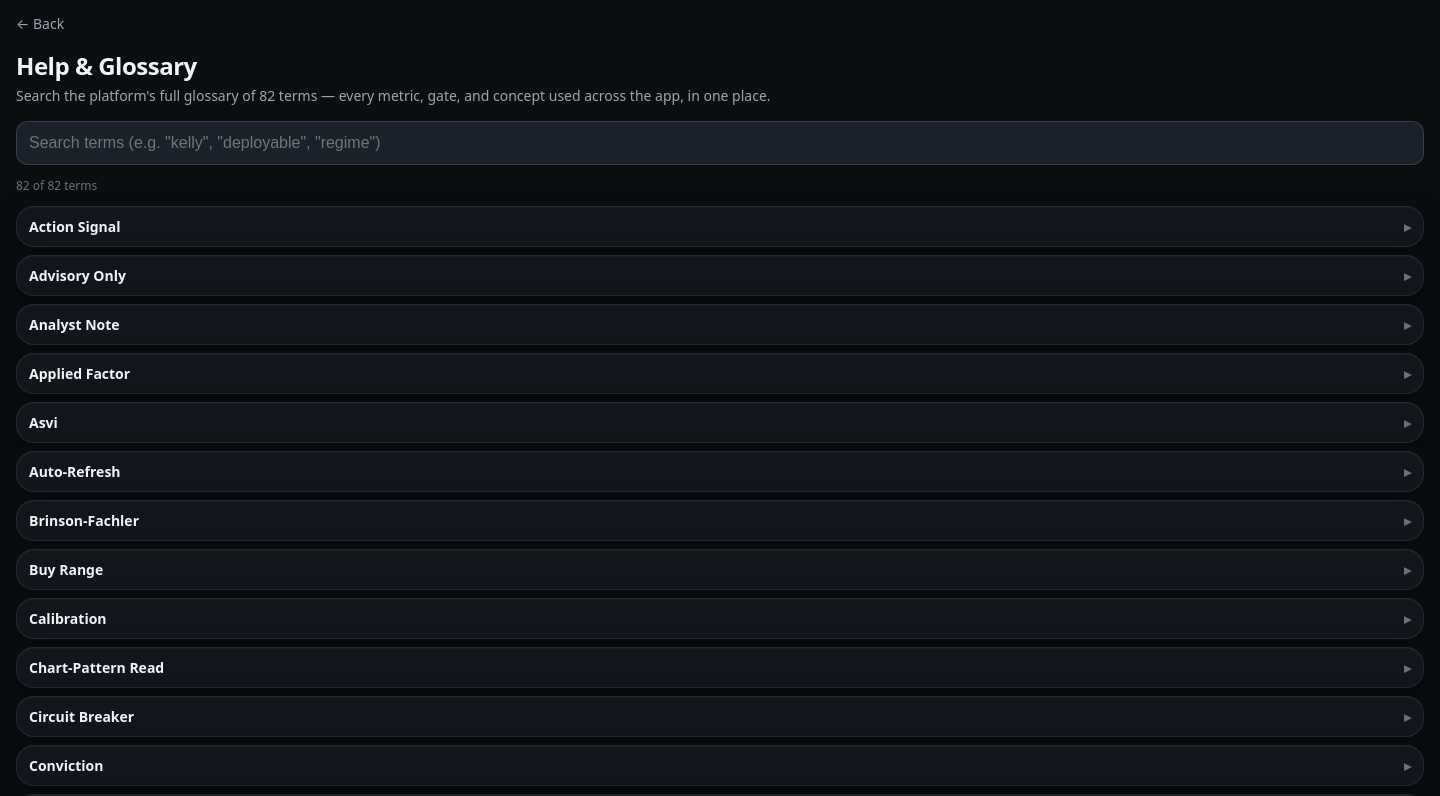
it: Help screen › filters by a substring of the definition text, not just the term
This screenshot has width=1440, height=796.
In the search field with test id "help-search": (720, 143) [16,121,1424,165], type "hidden-concentration"
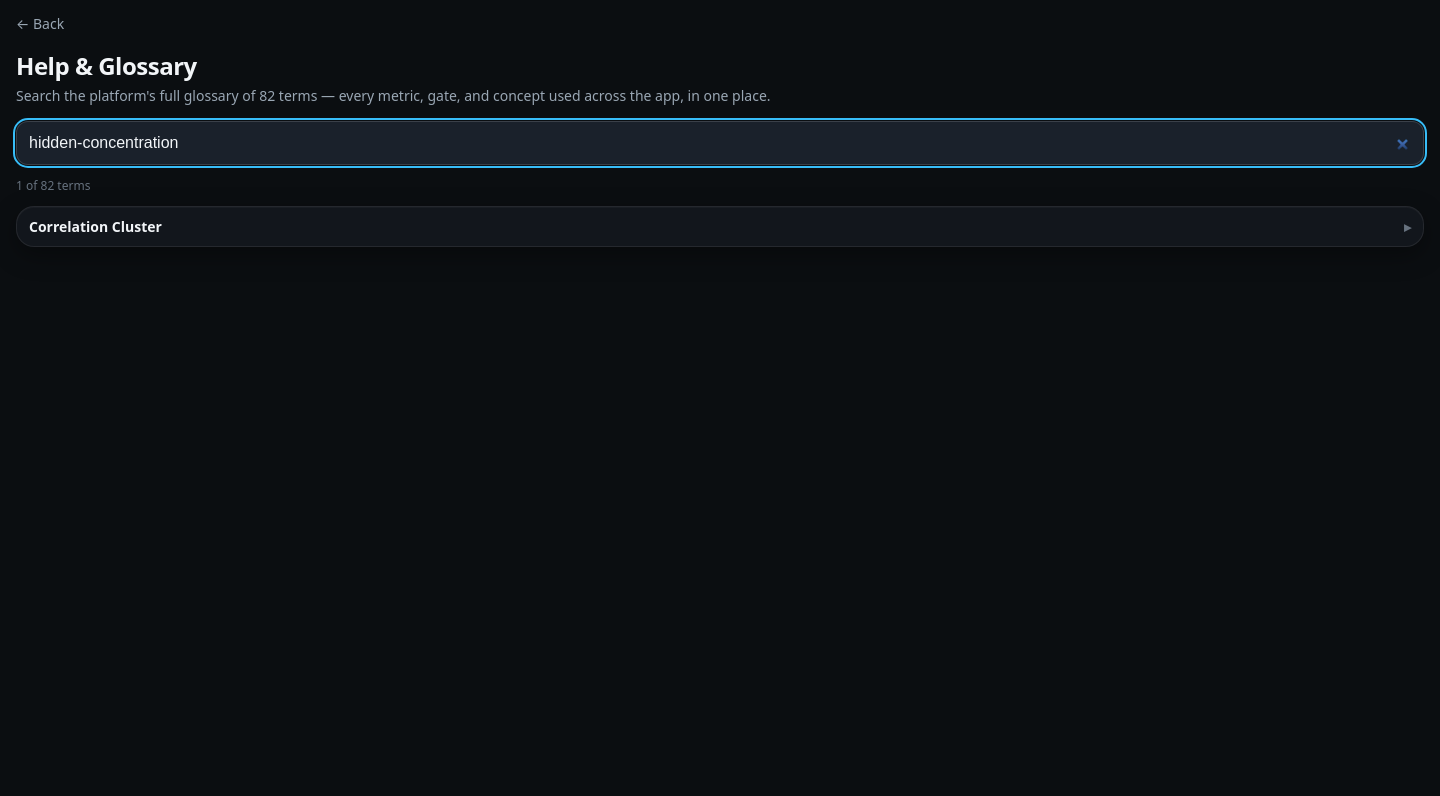
Expected: the button with test id "help-term-correlation cluster" is shown, [17,207,1423,246]
Now the button with test id "help-term-conviction" is gone
